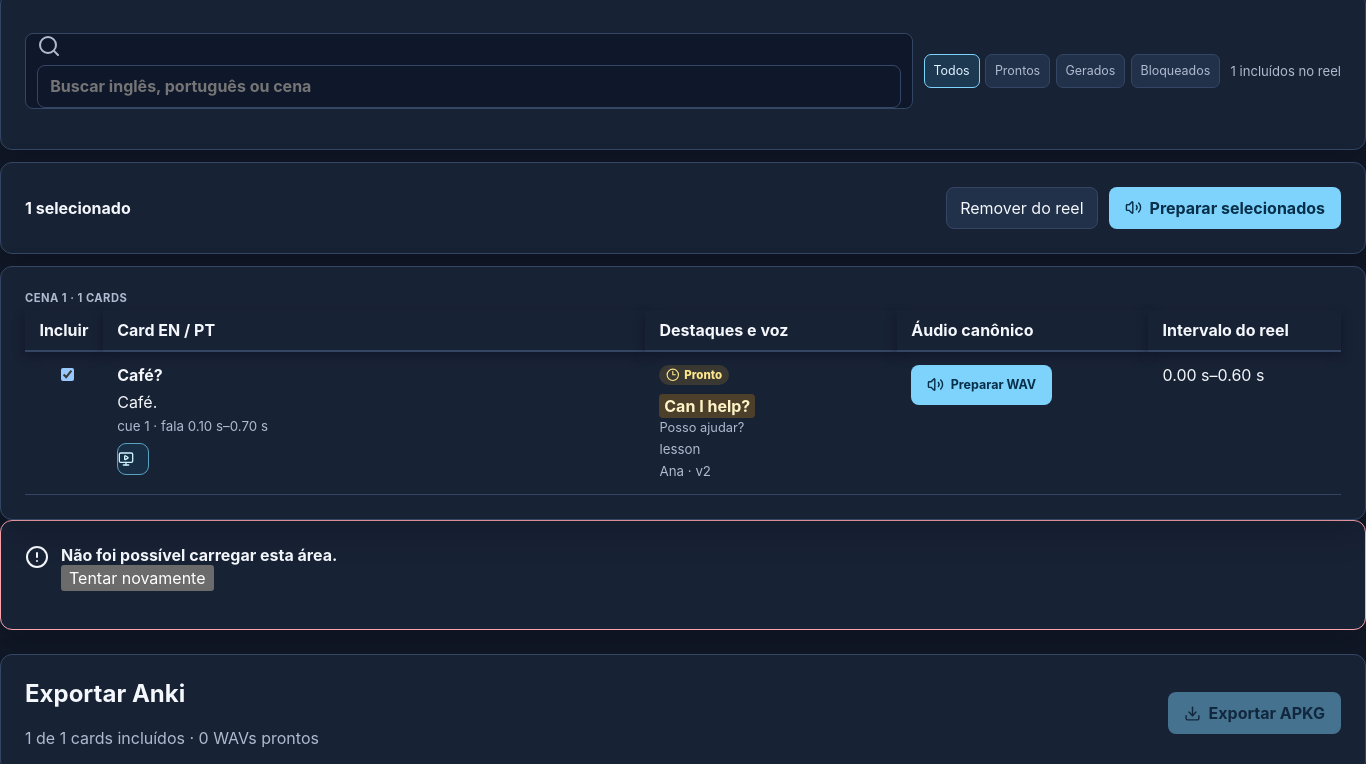
Scenario: MaterialsPage › shows API rejection next to the affected WAV button and allows retry
(page scrolled)
Click the button "Preparar WAV" at [982, 385], box [911, 365, 1052, 405]
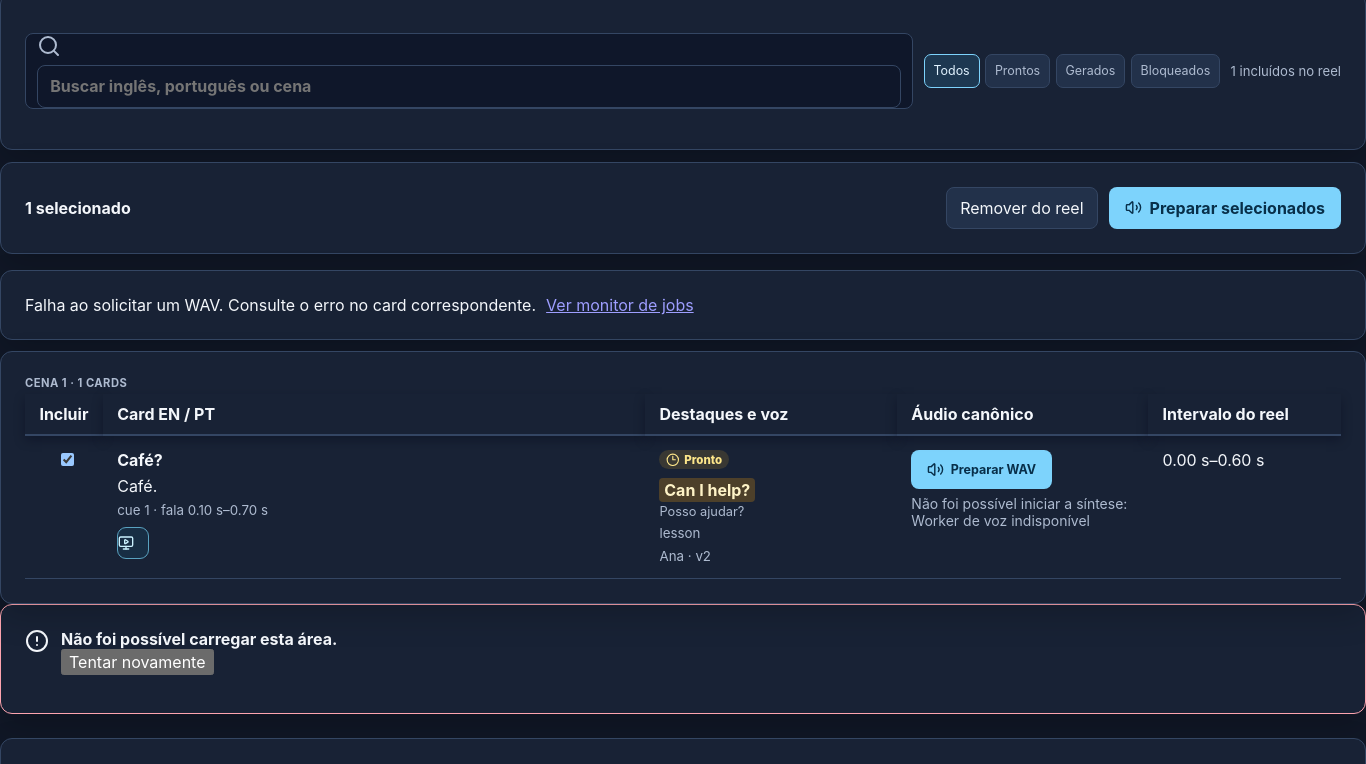
Expected: the button "Preparar WAV" is enabled, [911, 450, 1052, 489]
Expected: the text "Não foi possível iniciar a síntese: Worker de voz indisponível" is shown, [911, 496, 1134, 530]
